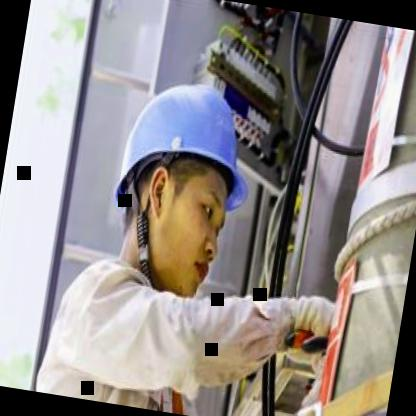helmet: (88, 48, 270, 316)
